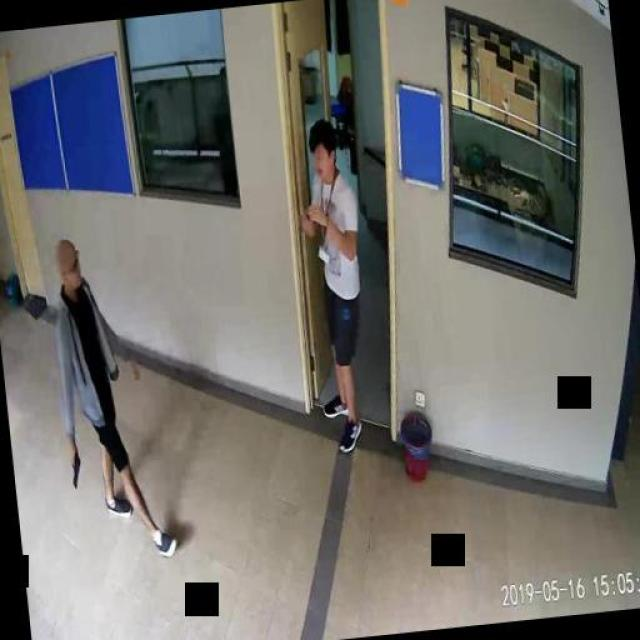gun: (65, 445, 81, 489)
